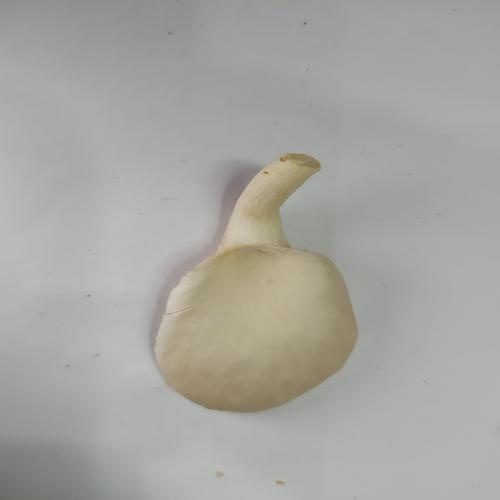Oyster Mushroom: (153, 152, 360, 413)
